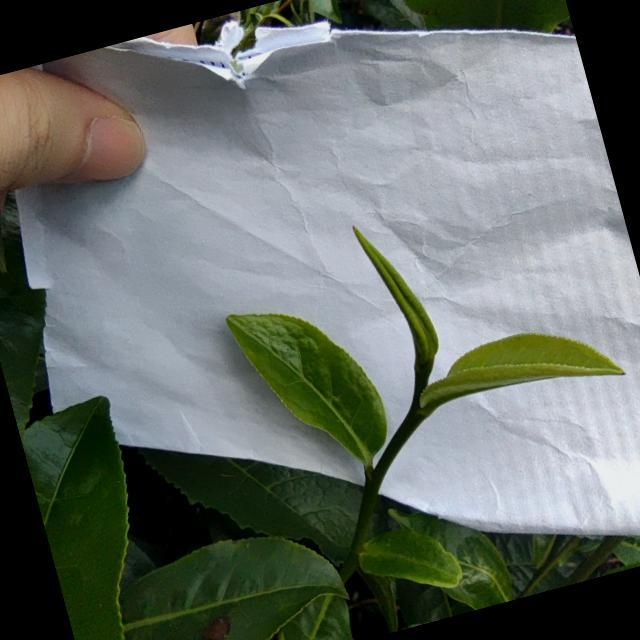Stem: (401, 423, 412, 436)
